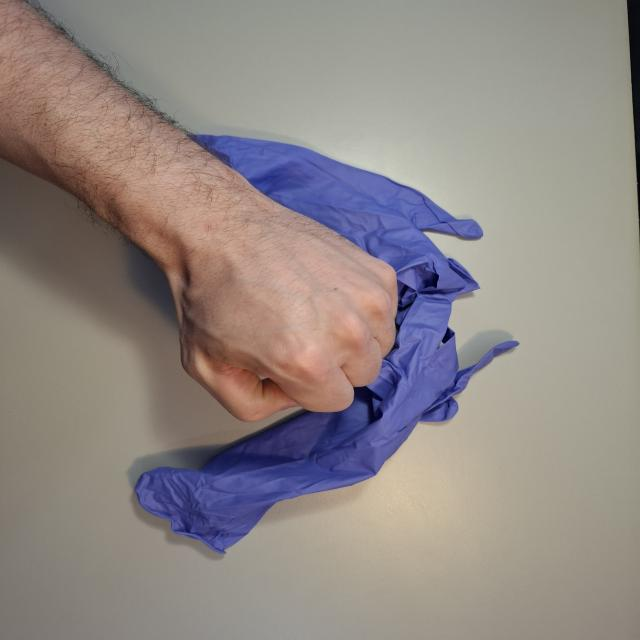glove_off: (163, 212, 403, 424)
